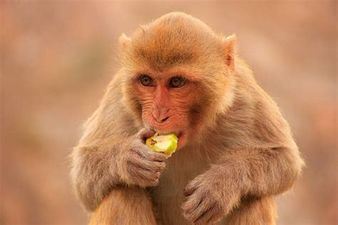monkey: (57, 7, 294, 212)
